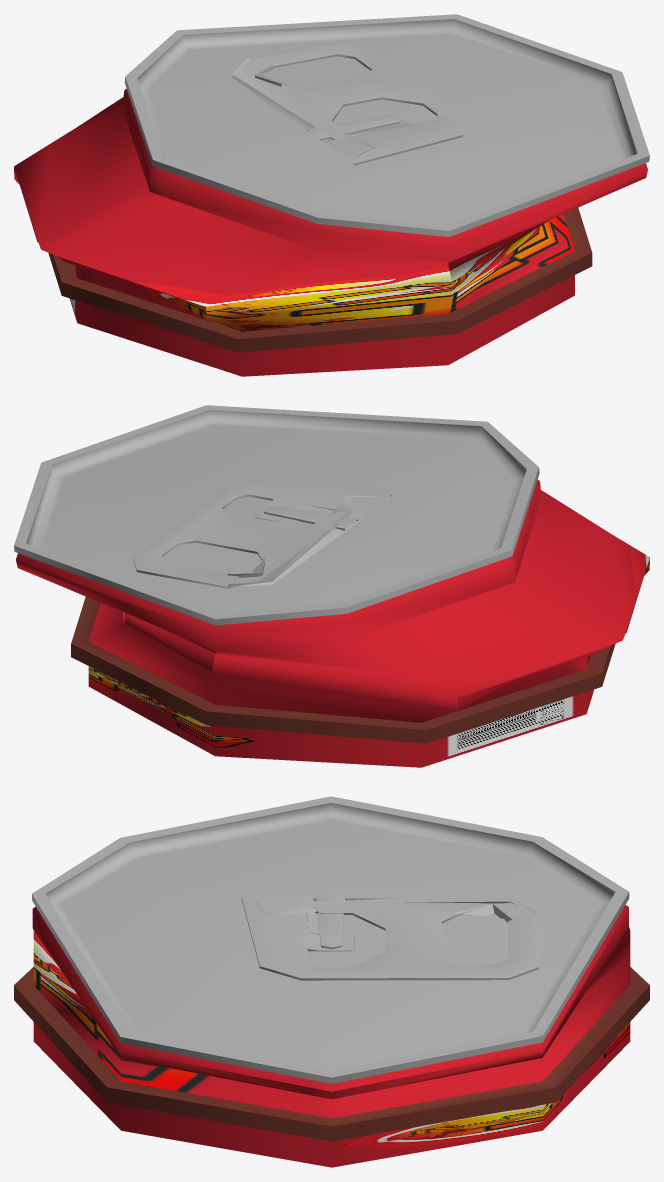
Rendered from cola_clash.fbx.
The picture shows the model from 3 angles, top to bottom: view 1: azimuth 30°, elevation 25°; view 2: azimuth 150°, elevation 25°; view 3: azimuth 270°, elevation 25°; orthographic projection. The views are drawn at different scales.
Visible parts, largest first — view 1: body, tub, tub2; view 2: body, tub, tub2; view 3: body, tub, tub2.
Part boxes in pixels (bbox=[...]): body: bbox=[14, 14, 649, 376]; tub: bbox=[232, 41, 464, 165]; tub2: bbox=[306, 114, 399, 140]; body: bbox=[14, 405, 649, 767]; tub: bbox=[132, 477, 392, 588]; tub2: bbox=[264, 505, 358, 530]; body: bbox=[14, 796, 649, 1167]; tub: bbox=[241, 894, 538, 980]; tub2: bbox=[316, 896, 345, 949].
Size of the model in its own units: 2.78 by 0.7156 by 2.4.
Materials: 2 (2 with a texture image).
